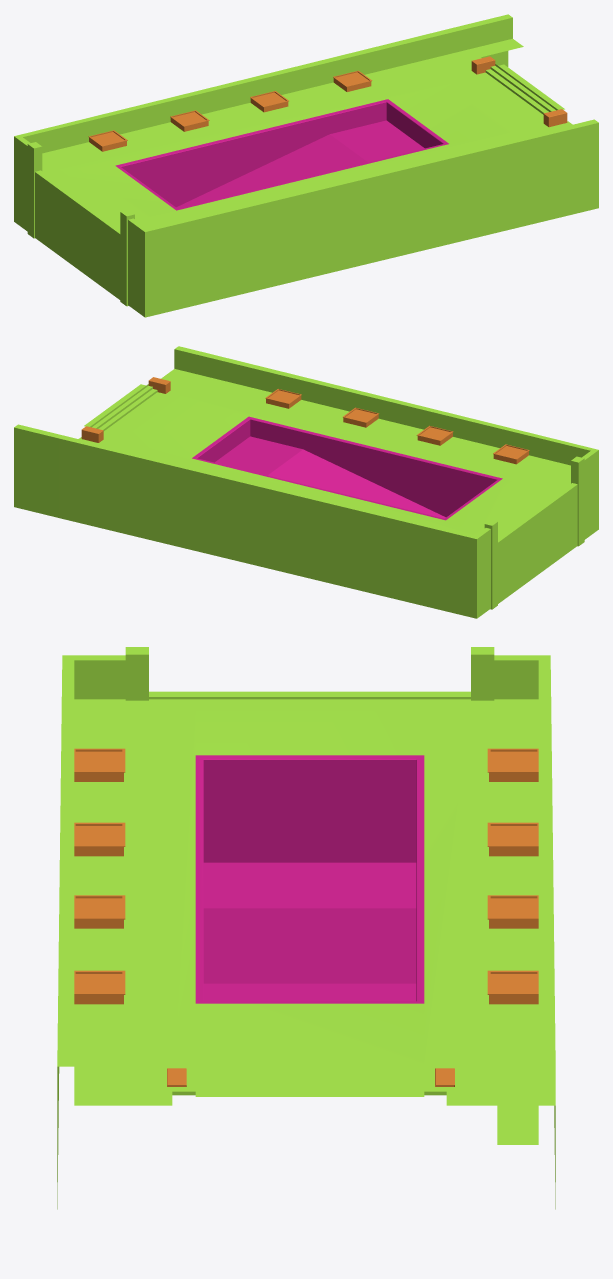
File: BakedLighting_Lightmaps_House2.FBX
3 views of the same model, one above another, from view 1: azimuth 30°, elevation 25°; view 2: azimuth 150°, elevation 25°; view 3: azimuth 270°, elevation 25° (orthographic). The views are drawn at different scales.
Visible parts, largest first — view 1: BakedLighting_Lightmaps_House2; view 2: BakedLighting_Lightmaps_House2; view 3: BakedLighting_Lightmaps_House2.
Boxes of the visible parts, <box> form: BakedLighting_Lightmaps_House2: <box>14,14,598,317</box>; BakedLighting_Lightmaps_House2: <box>14,346,598,618</box>; BakedLighting_Lightmaps_House2: <box>57,647,555,1209</box>.
Bounding box in the file's own units: 2525 × 1176 × 437.
